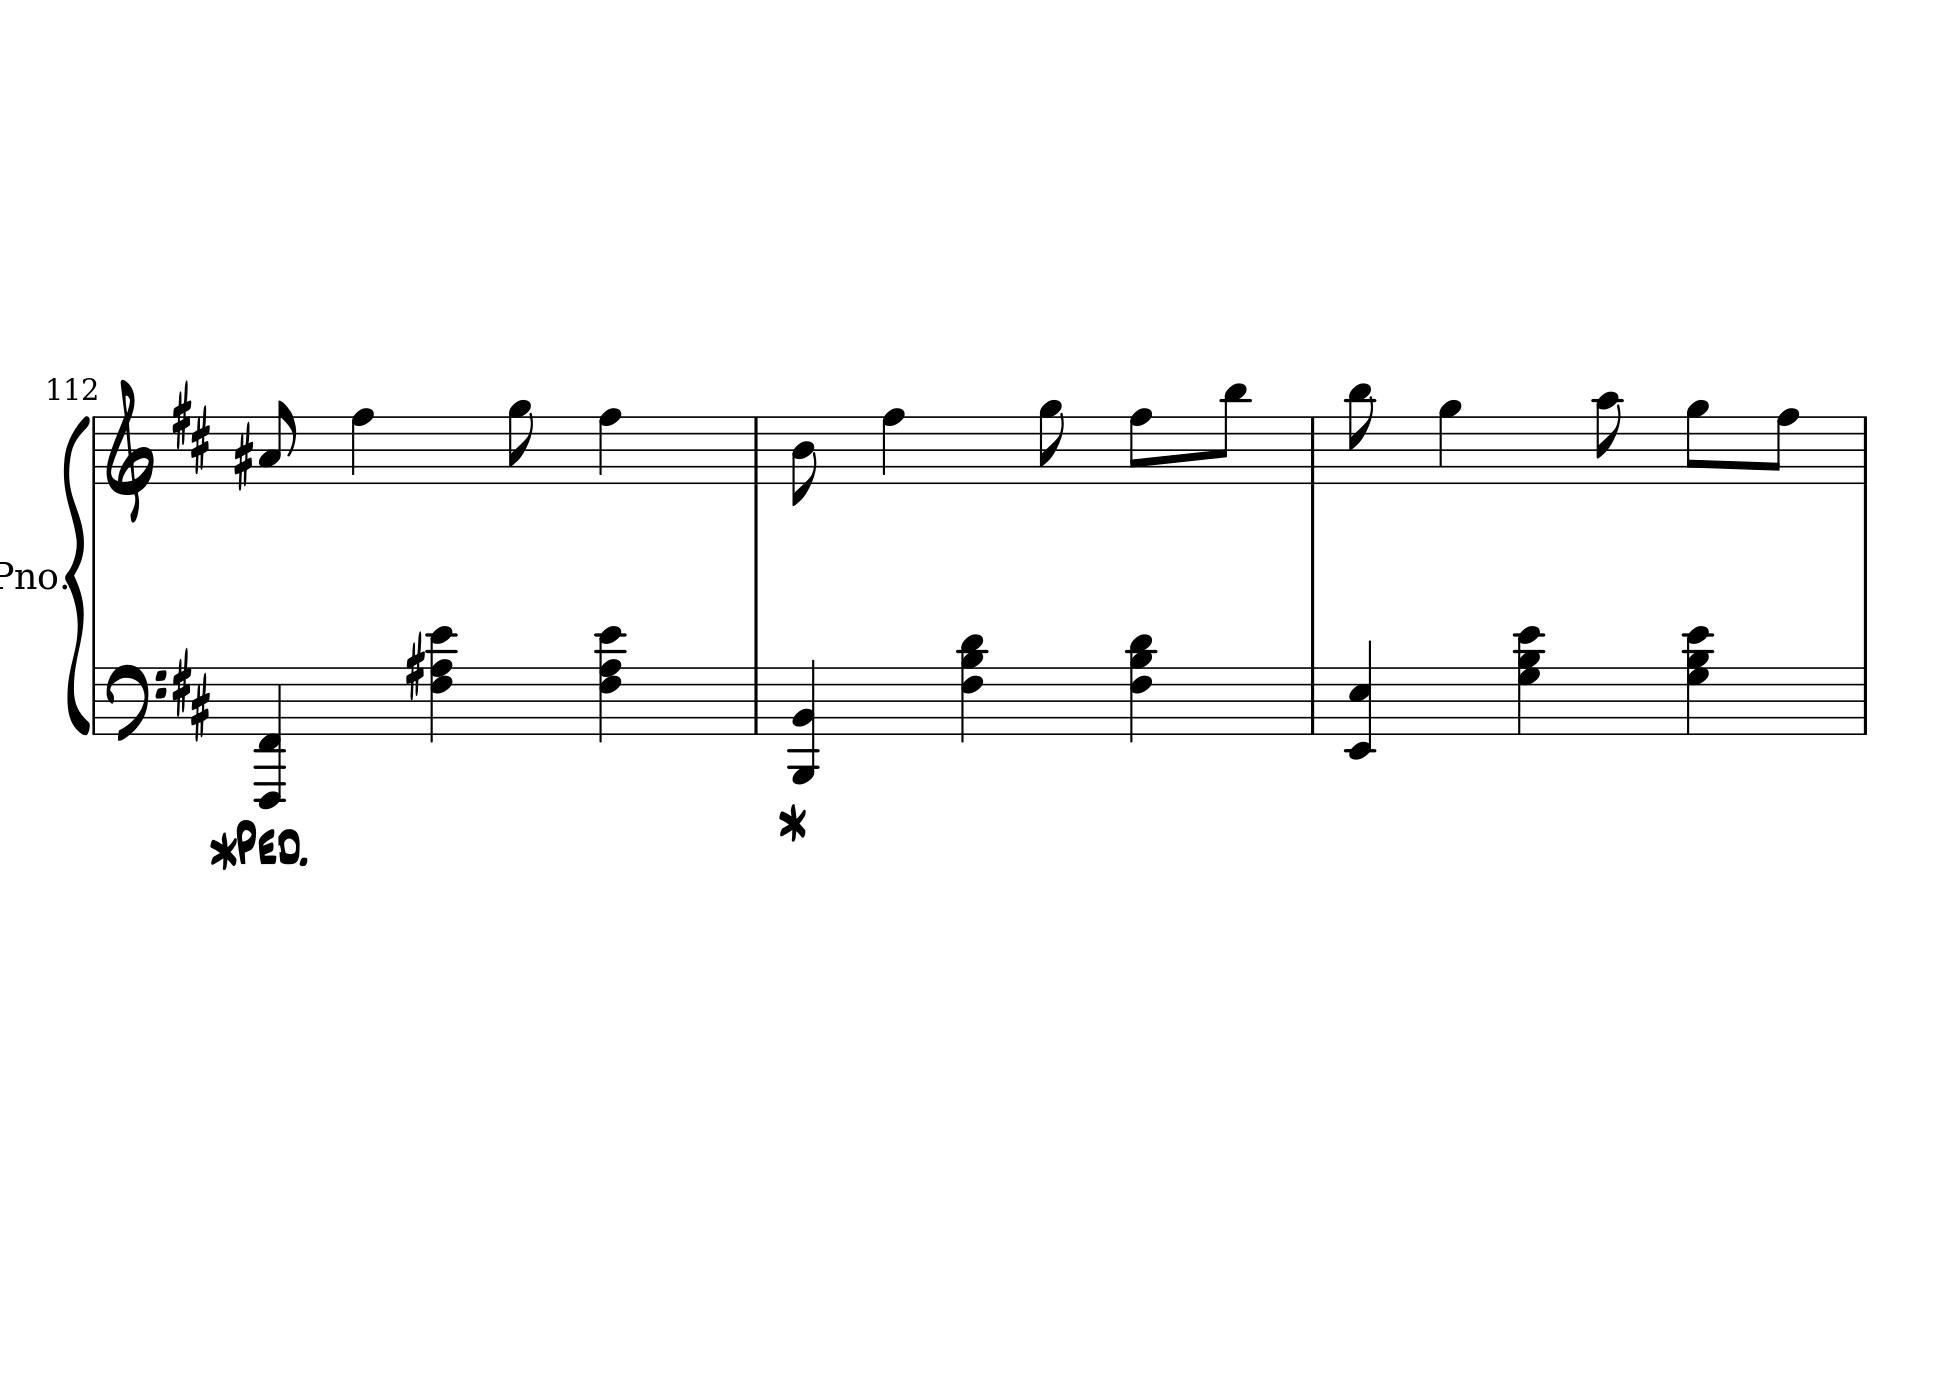1: (46, 375, 61, 402), (64, 375, 78, 402)
2: (79, 375, 97, 402)
4_-2_5: (1344, 640, 1380, 762)
4_-5_2: (786, 658, 820, 787)
4_-8_-1: (253, 667, 289, 810)
4_8: (349, 405, 375, 484), (597, 406, 622, 486), (882, 406, 907, 486)
4_9: (1437, 397, 1464, 486)
4_th: (424, 625, 459, 742), (594, 625, 627, 742), (1512, 622, 1545, 736), (1681, 624, 1714, 736), (955, 631, 987, 742), (1125, 631, 1156, 742)
8_10: (1594, 390, 1624, 486)
8_11: (1212, 381, 1248, 486), (1347, 381, 1375, 486)
8_3: (259, 397, 297, 484)
8_4: (790, 414, 817, 505)
8_8: (1764, 406, 1800, 486), (1128, 406, 1153, 486)
8_9: (505, 397, 534, 484), (1038, 397, 1065, 486), (1684, 397, 1710, 486)
Brace: (64, 409, 88, 745)
D_S: (171, 379, 211, 474), (172, 646, 211, 739)
Fclef: (103, 661, 166, 744)
Gclef: (103, 376, 156, 523)
Pno: (1, 556, 57, 594)
Sharp: (232, 421, 253, 489), (405, 634, 426, 700)
Single_barline: (1303, 415, 1321, 483), (747, 415, 763, 483), (1305, 667, 1321, 733), (1857, 667, 1873, 733), (1857, 417, 1873, 481), (748, 667, 763, 733), (88, 417, 102, 484), (88, 667, 102, 732)
